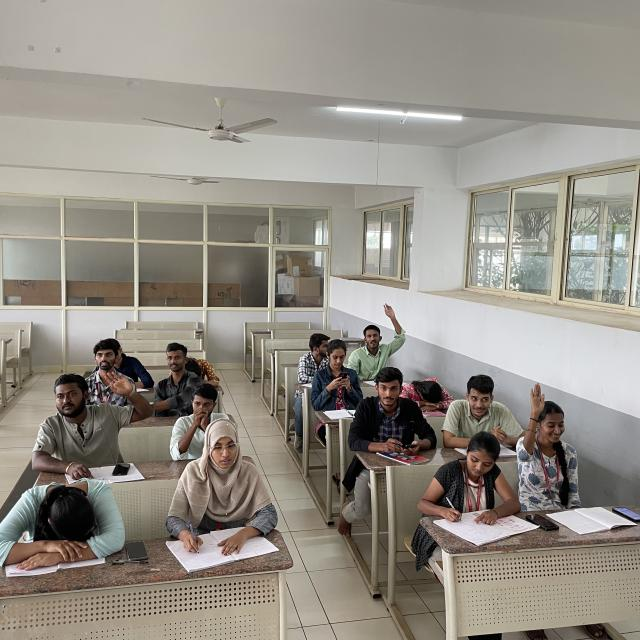Hand Rising: (36, 366, 150, 463), (518, 383, 580, 502), (354, 301, 410, 373)
Sleeping: (0, 479, 120, 557), (402, 377, 456, 414)
Using Phone: (350, 365, 432, 457), (312, 339, 362, 406)
Writing: (163, 424, 275, 571), (420, 431, 522, 536)
